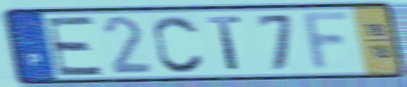2: (101, 14, 155, 77)
7: (254, 12, 297, 73)
C: (151, 13, 207, 75)
E: (44, 14, 106, 78)
F: (300, 8, 354, 74)
T: (204, 14, 245, 73)
